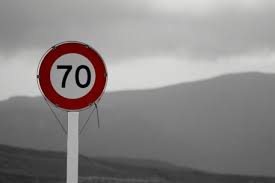Speed_limit_70km: (36, 42, 109, 109)
